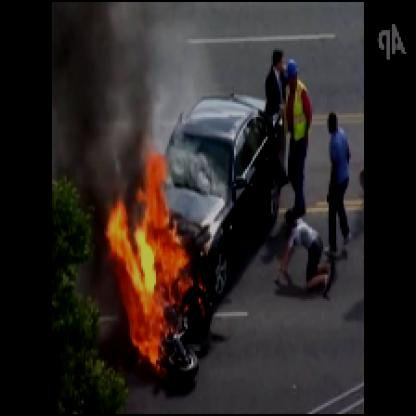Fire: (106, 147, 212, 384)
Smoke: (54, 2, 165, 167)
